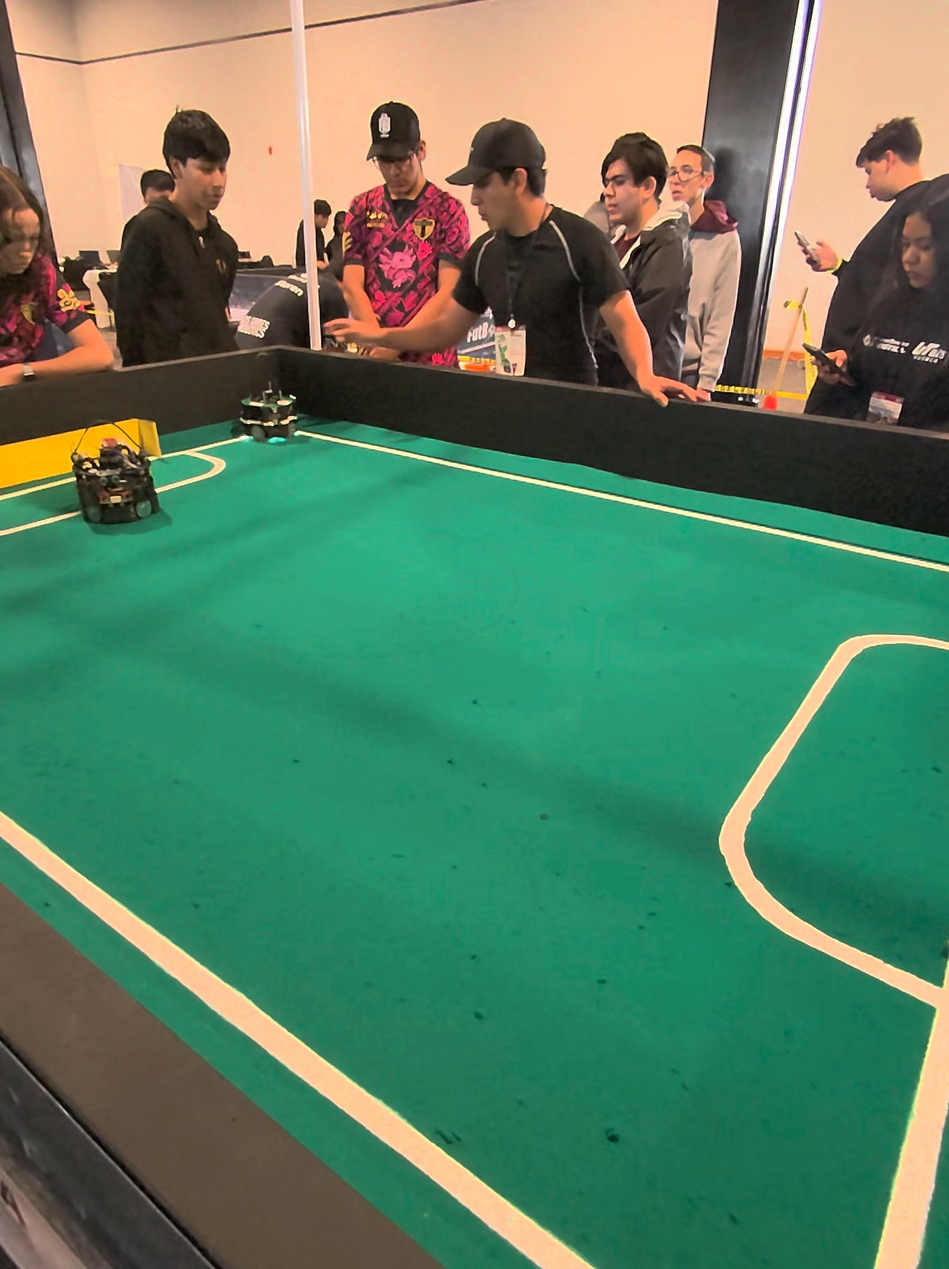Robot: (62, 411, 165, 528), (230, 351, 302, 465)
